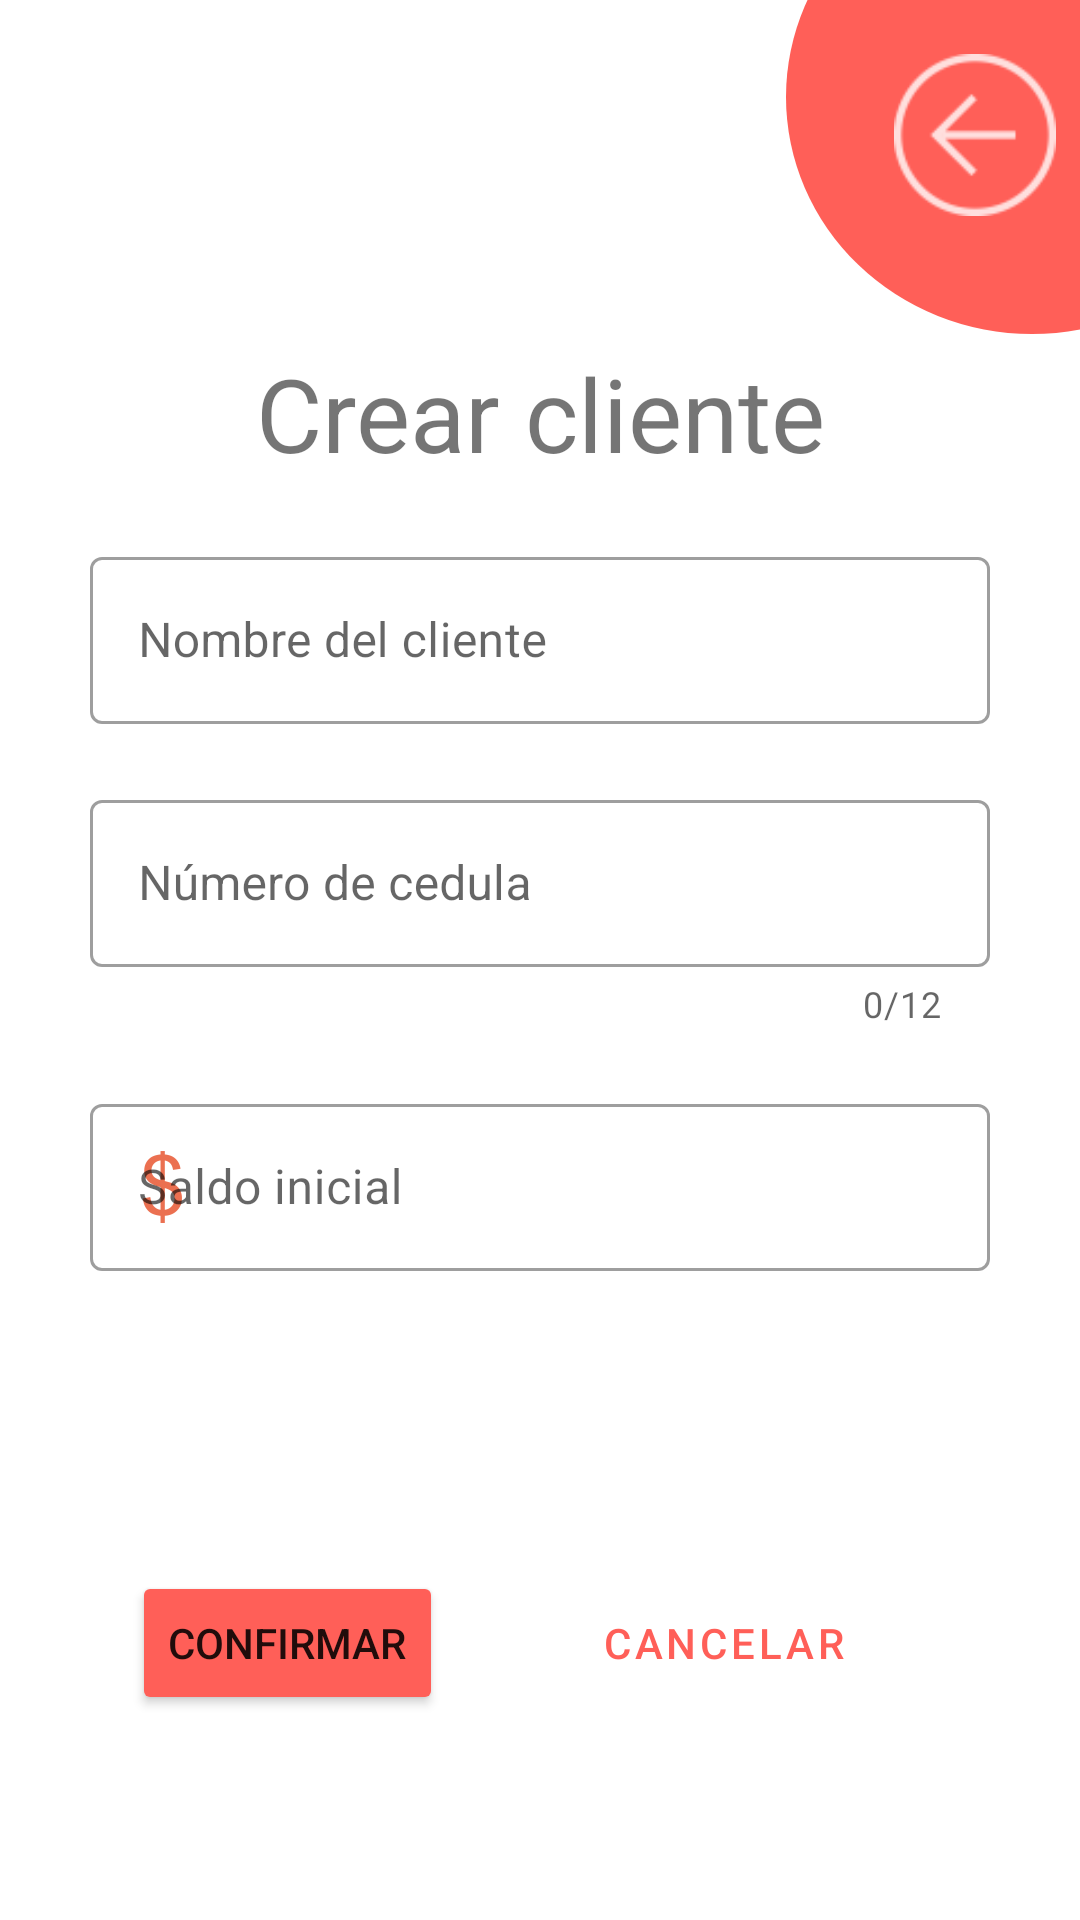

Icons on this 1080w x 1920h Android screen, each with its box as (x1, y1, x2, y2):
arrowback: (894, 54, 1056, 216)
